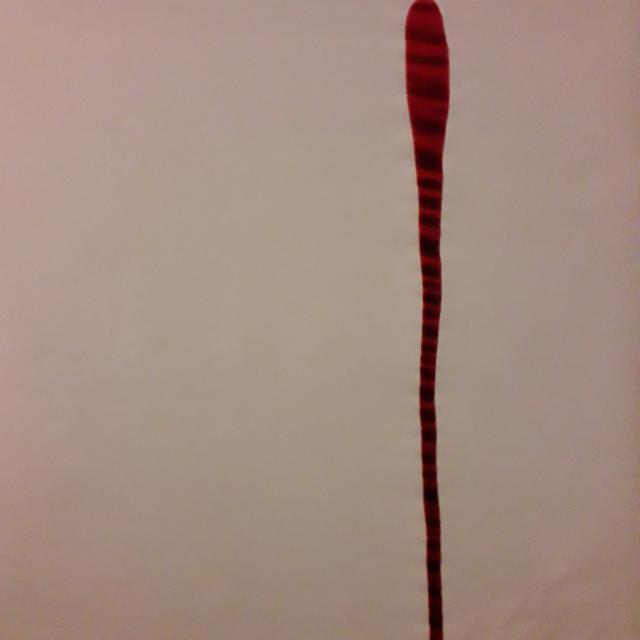wound: (383, 1, 497, 640)
